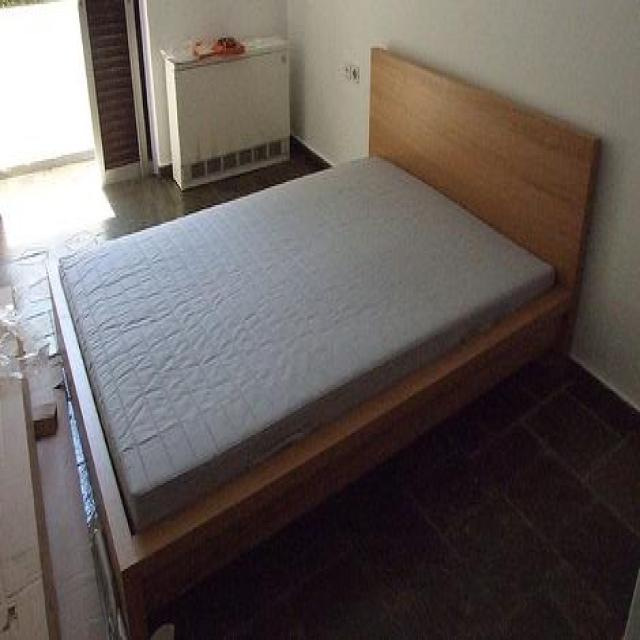bed: (45, 45, 609, 640)
